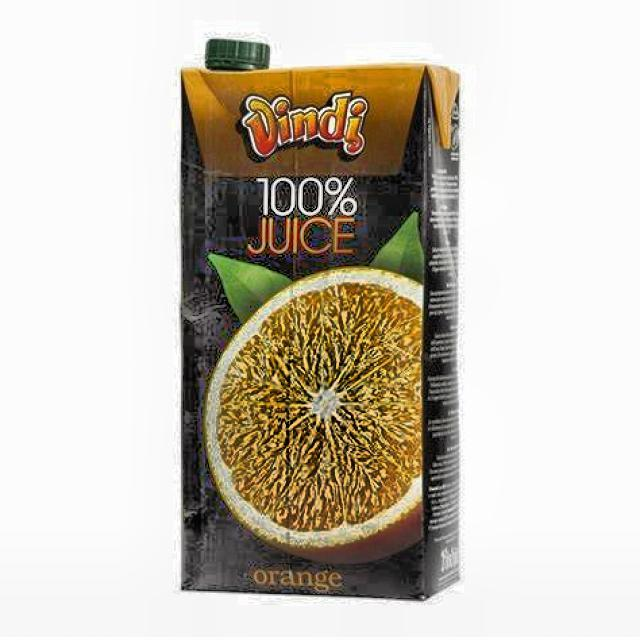cardboard: (178, 46, 462, 601)
